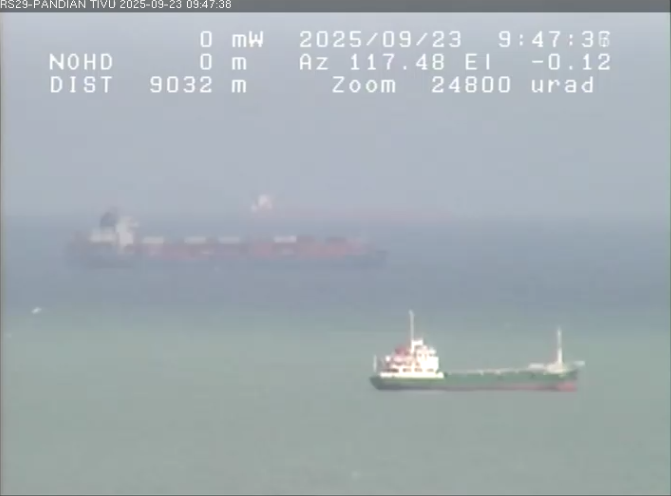CARGO_SHIPS: (48, 198, 418, 287), (357, 299, 599, 406)
